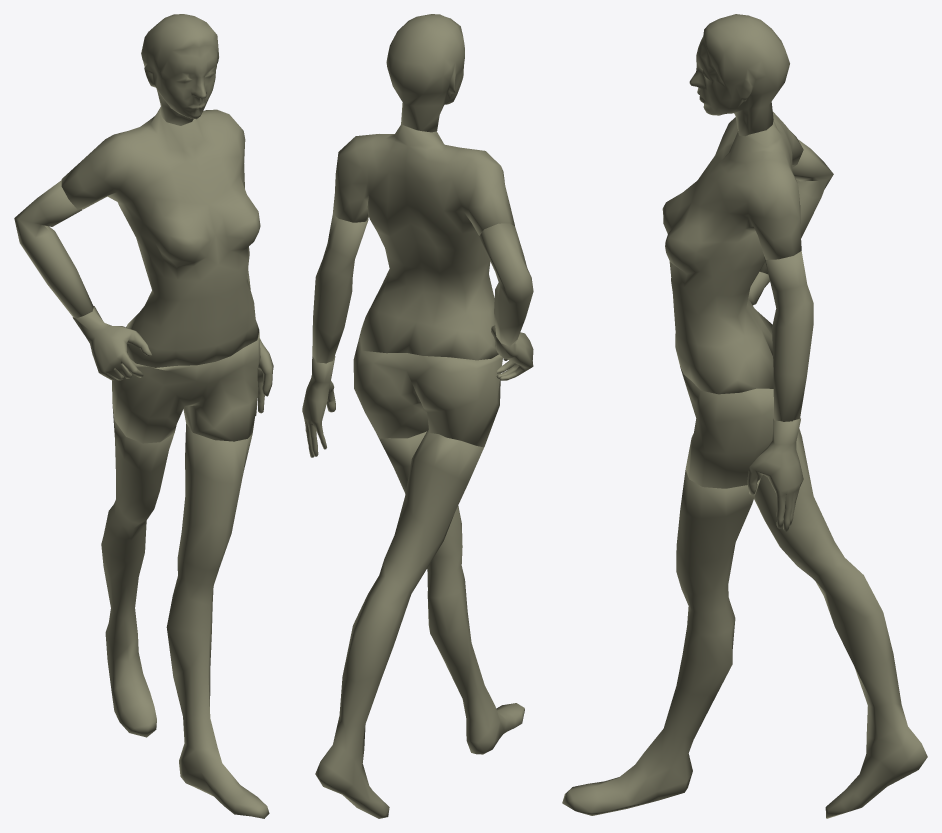
The picture shows the model from 3 angles, left to right: view 1: azimuth 30°, elevation 25°; view 2: azimuth 150°, elevation 25°; view 3: azimuth 270°, elevation 25°; orthographic projection. The views are drawn at different scales.
Visible parts, largest first — view 1: mannequin; view 2: mannequin; view 3: mannequin.
Boxes of the visible parts, x1=… form: mannequin: x1=14, y1=14, x2=273, y2=818; mannequin: x1=302, y1=14, x2=533, y2=818; mannequin: x1=562, y1=14, x2=927, y2=818.
Bounding box in the file's own units: 0.5934 × 1.8 × 0.7478.
